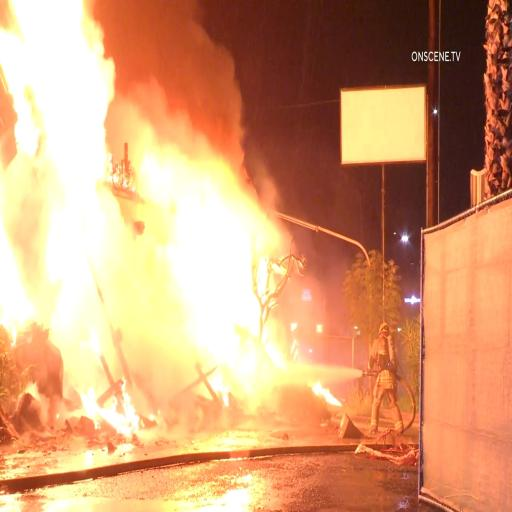fire: (0, 5, 105, 350), (155, 149, 275, 371)
smoke: (100, 0, 228, 134)
